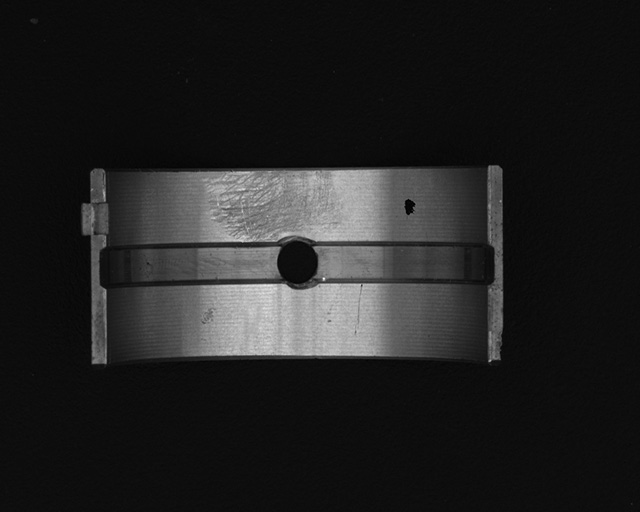blot: (403, 198, 417, 217)
bruise: (199, 308, 215, 326)
gap: (98, 242, 285, 287), (313, 240, 494, 285)
hole: (277, 234, 320, 293)
nick: (355, 283, 363, 326)
scratch: (205, 170, 345, 241)
